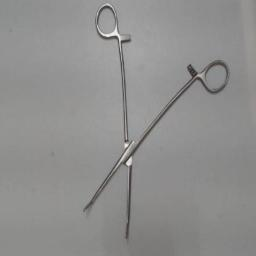Lahey Forceps: (82, 2, 234, 244)
